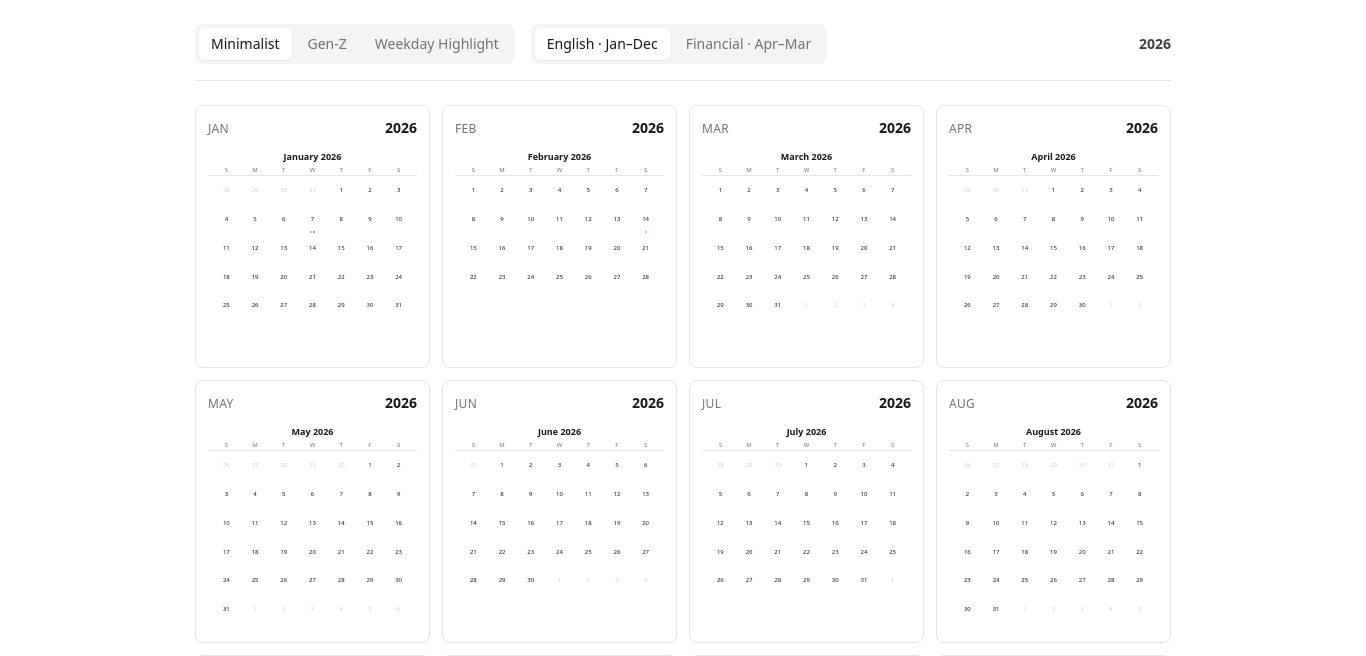
Test case: CalendarProductPreview — flip warning modal › modal text uses plural "entries" when multiple would orphan
What coordinates should you click on to do the following:
click the button "Financial · Apr–Mar"
I would click on:
 (748, 44)
Its box is top-left (674, 28), bottom-right (823, 60).
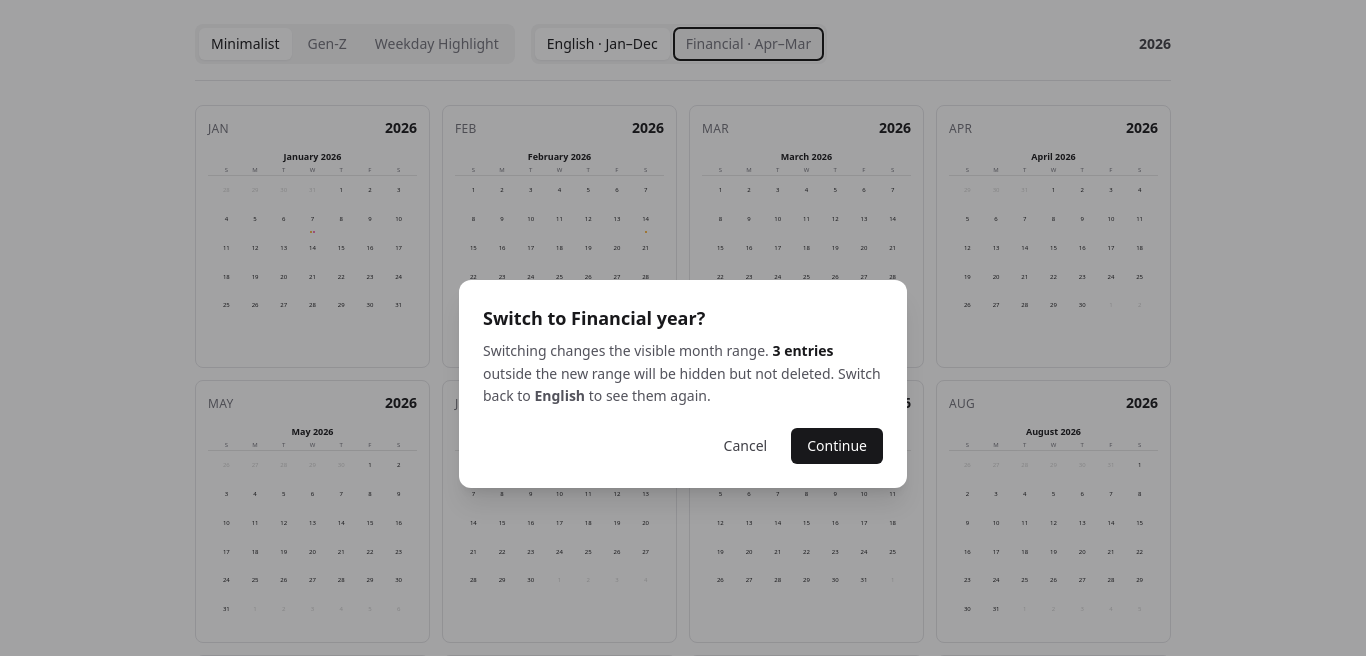
Check: the text "3 entries" is shown, box top-left (772, 341), bottom-right (834, 360)
